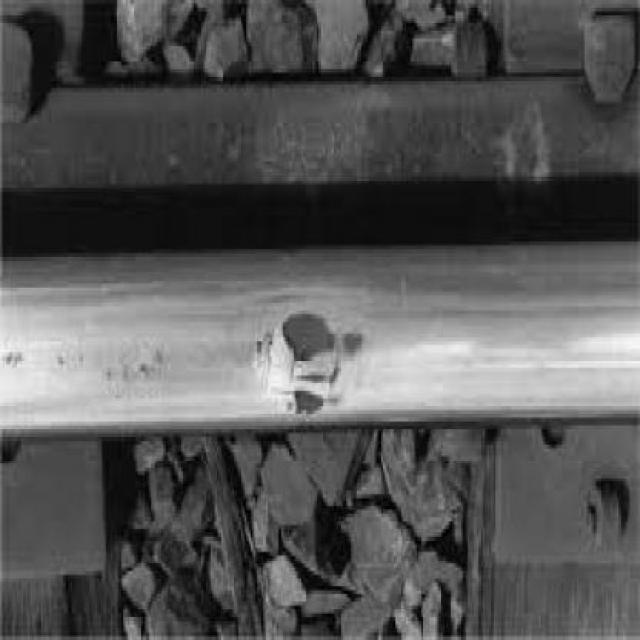defective: (6, 195, 640, 543)
